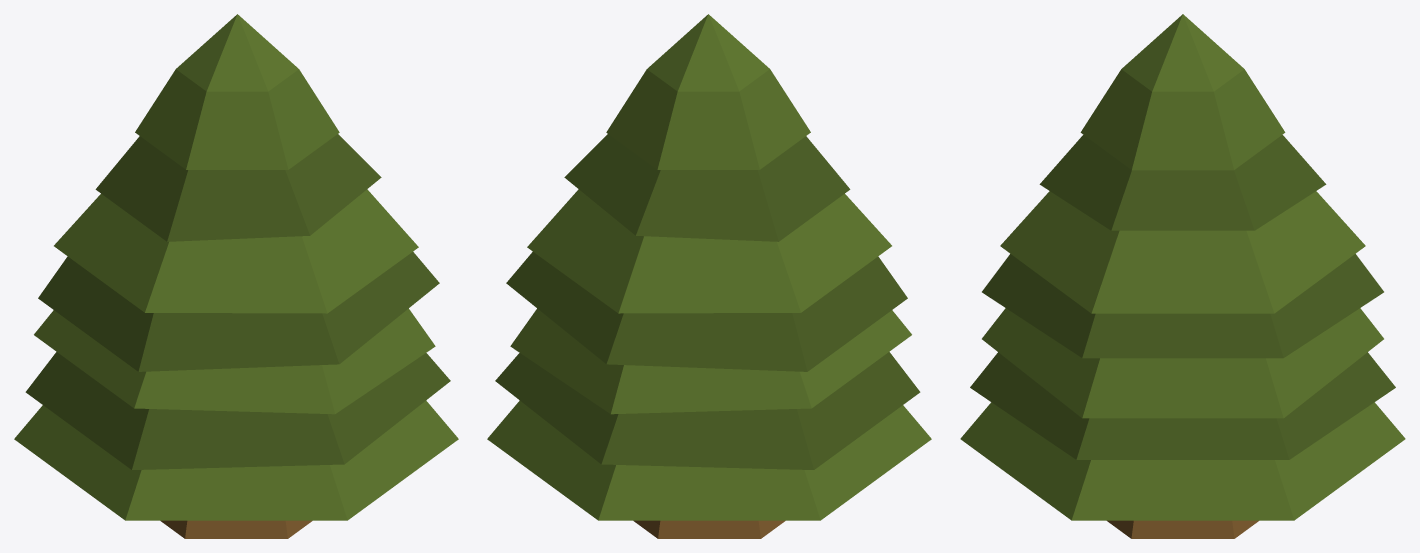
File: Tree2.fbx
3 renders of one model, left to right at view 1: azimuth 30°, elevation 25°; view 2: azimuth 150°, elevation 25°; view 3: azimuth 270°, elevation 25°, orthographic.
Visible parts, largest first — view 1: Tree2; view 2: Tree2; view 3: Tree2.
Part boxes in pixels (bbox=[...]): Tree2: bbox=[14, 14, 458, 538]; Tree2: bbox=[487, 14, 931, 538]; Tree2: bbox=[960, 14, 1405, 538].
Bounding box in the file's own units: 417 × 582 × 482.
